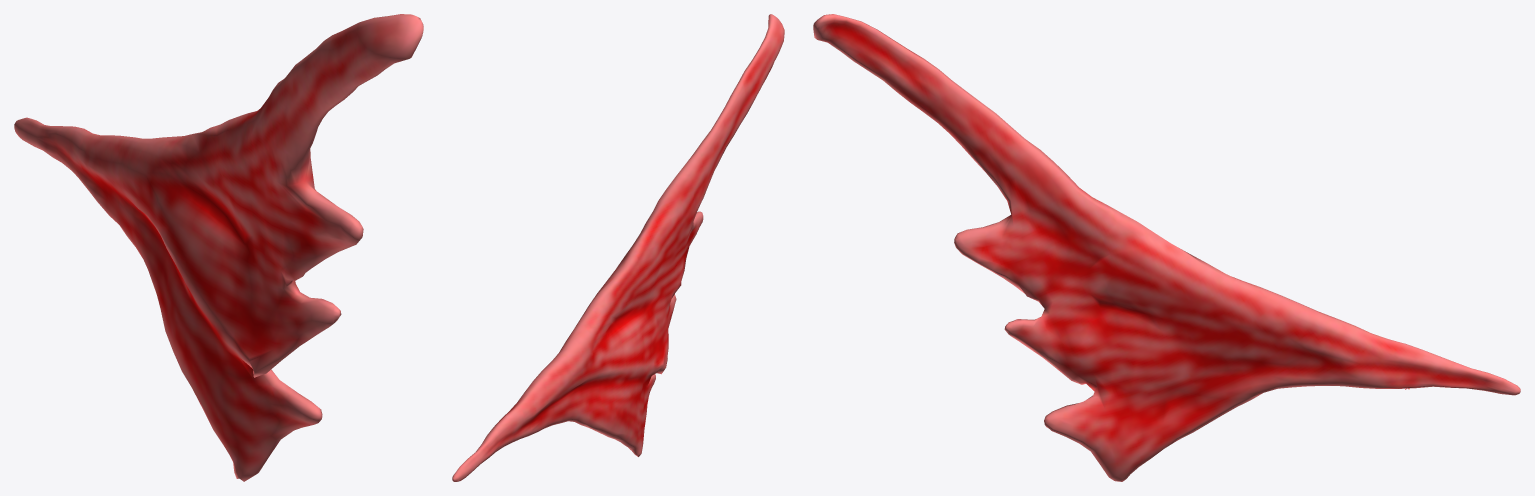
The model's file is splenius.glb.
The picture shows the model from 3 angles, left to right: view 1: azimuth 30°, elevation 25°; view 2: azimuth 150°, elevation 25°; view 3: azimuth 270°, elevation 25°; orthographic projection. The views are drawn at different scales.
Visible parts, largest first — view 1: splenius1.010; view 2: splenius1.010; view 3: splenius1.010.
Part boxes in pixels (x1,y1,x2,y2): splenius1.010: [14, 14, 423, 481]; splenius1.010: [452, 14, 784, 481]; splenius1.010: [813, 14, 1520, 481].
Bounding box in the file's own units: 0.0858 × 0.4708 × 0.6613.
1 material, 1 textured.
